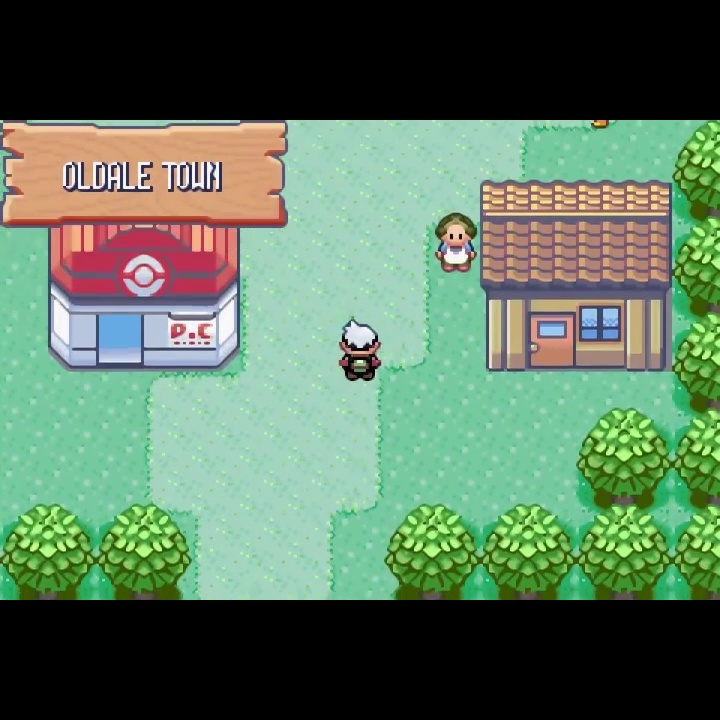house: (477, 178, 677, 377)
npc: (335, 315, 384, 383), (433, 210, 479, 277)
pokecen: (46, 225, 244, 371)
wall: (576, 407, 673, 506), (97, 501, 194, 600), (1, 502, 98, 601), (382, 503, 480, 600), (482, 502, 577, 599), (578, 502, 672, 600), (672, 215, 720, 312), (673, 406, 720, 505), (672, 312, 720, 408), (673, 503, 720, 600), (672, 120, 720, 214)
